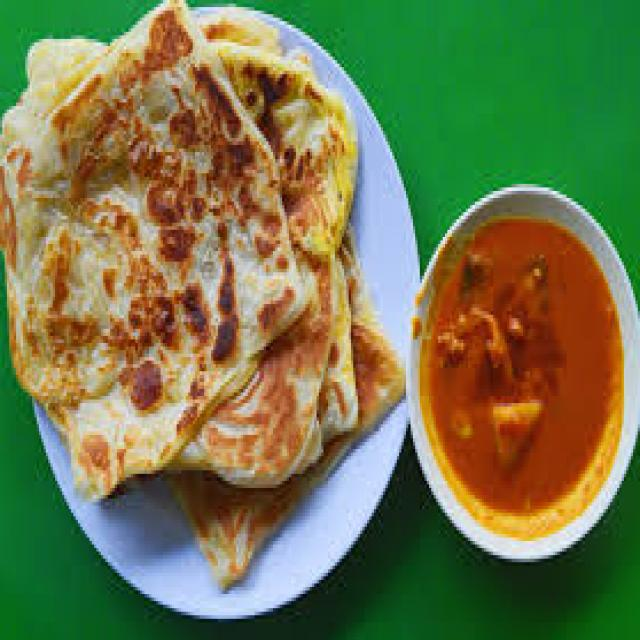Paratha: (0, 0, 402, 594)
